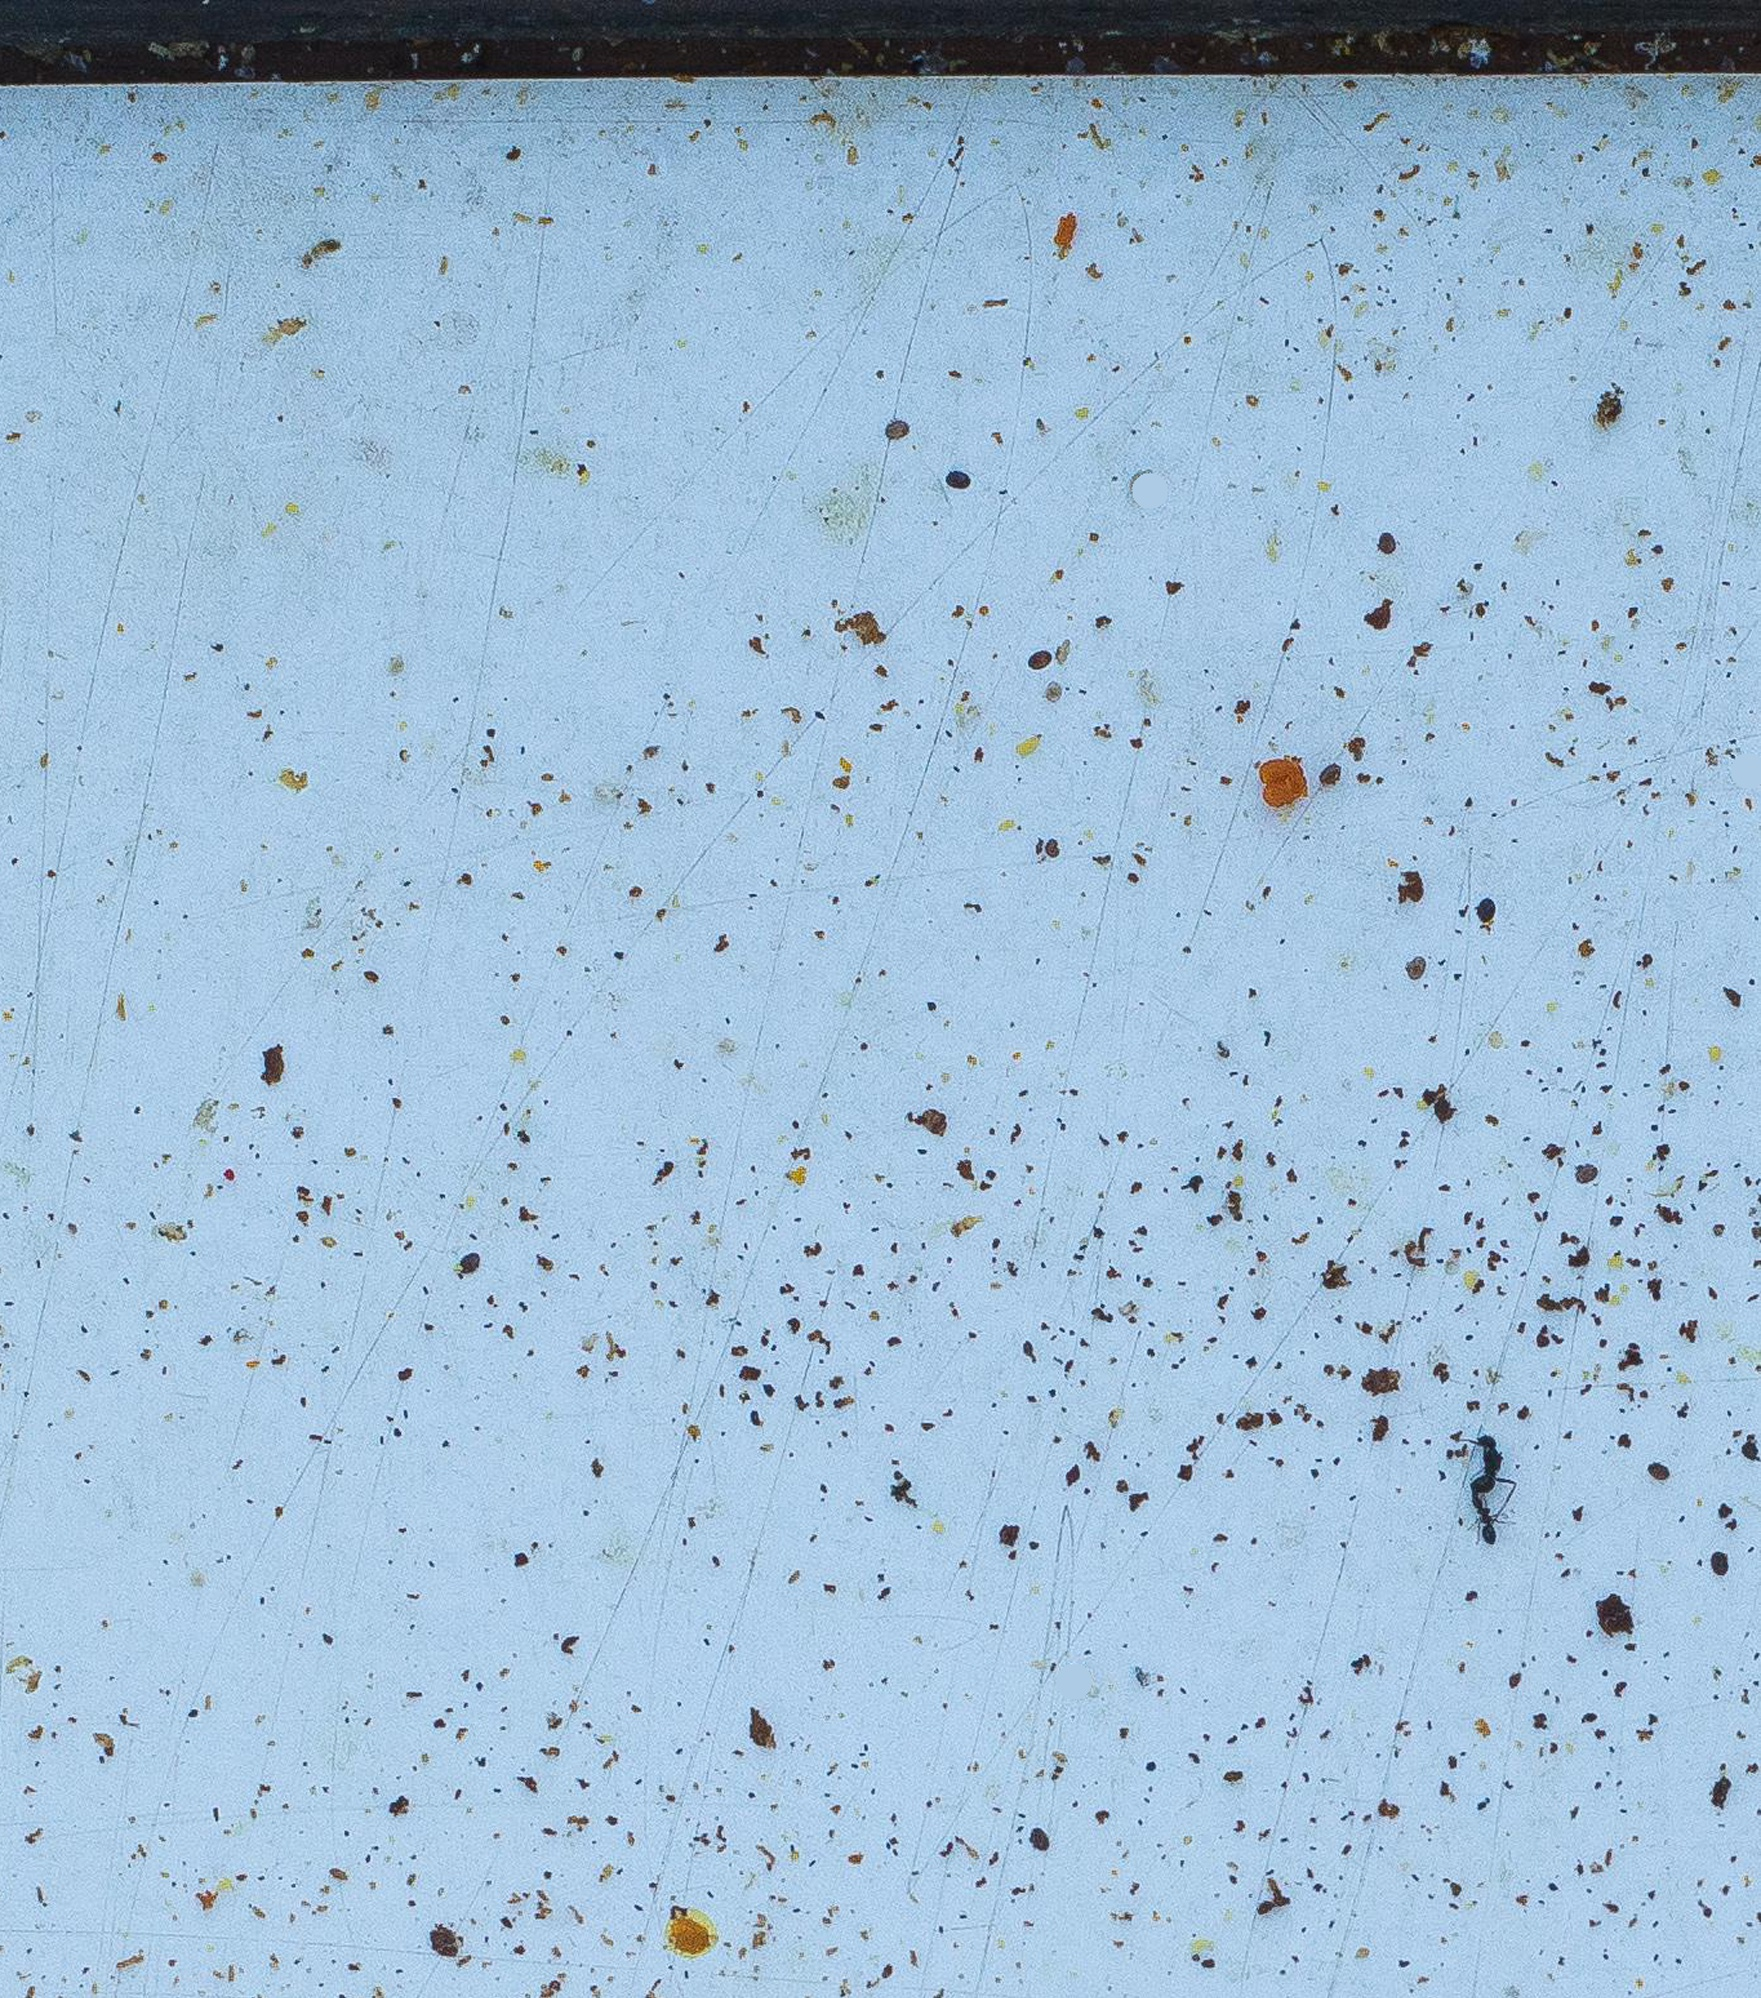Varroa: (1312, 758, 1351, 803), (1640, 1456, 1678, 1495), (1390, 949, 1431, 985), (1023, 1819, 1061, 1857), (879, 412, 914, 451), (1455, 906, 1491, 945), (1023, 644, 1059, 682), (1368, 525, 1404, 561), (1703, 1546, 1737, 1581), (1569, 1155, 1603, 1190), (450, 1250, 484, 1284), (1469, 893, 1501, 927), (938, 469, 967, 495)
